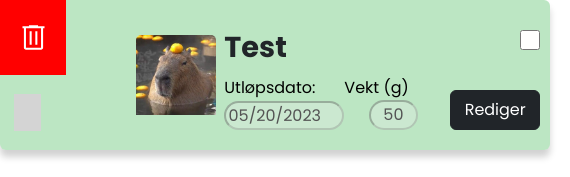
FridgeItemCardTests › enables the inputs when the edit button is clicked
What coordinates should you click on to do the following:
click the button with id "edit-button"
I would click on:
 (495, 110)
Its box is [450, 90, 540, 130].
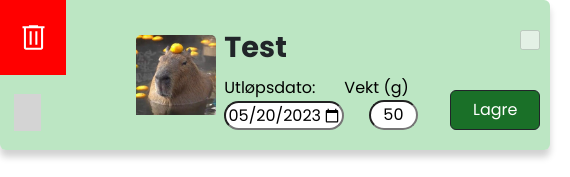
expect the date field with id "expiration-date" is enabled: met, box [224, 101, 344, 130]
expect the field is enabled: met, box [369, 100, 418, 130]
